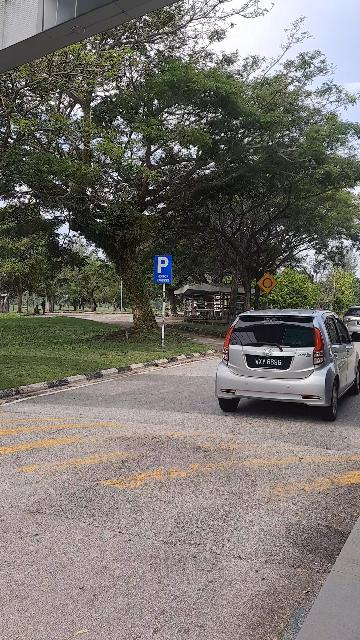License_Plate: (245, 355, 296, 371)
car: (213, 309, 360, 422)
